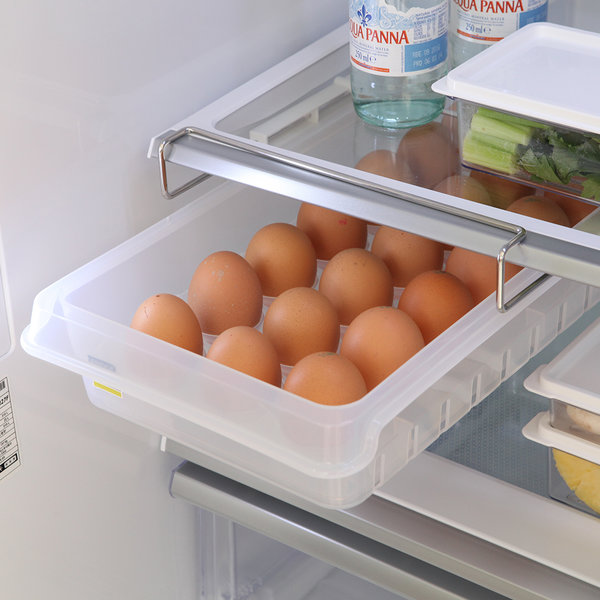egg: (133, 124, 593, 406)
